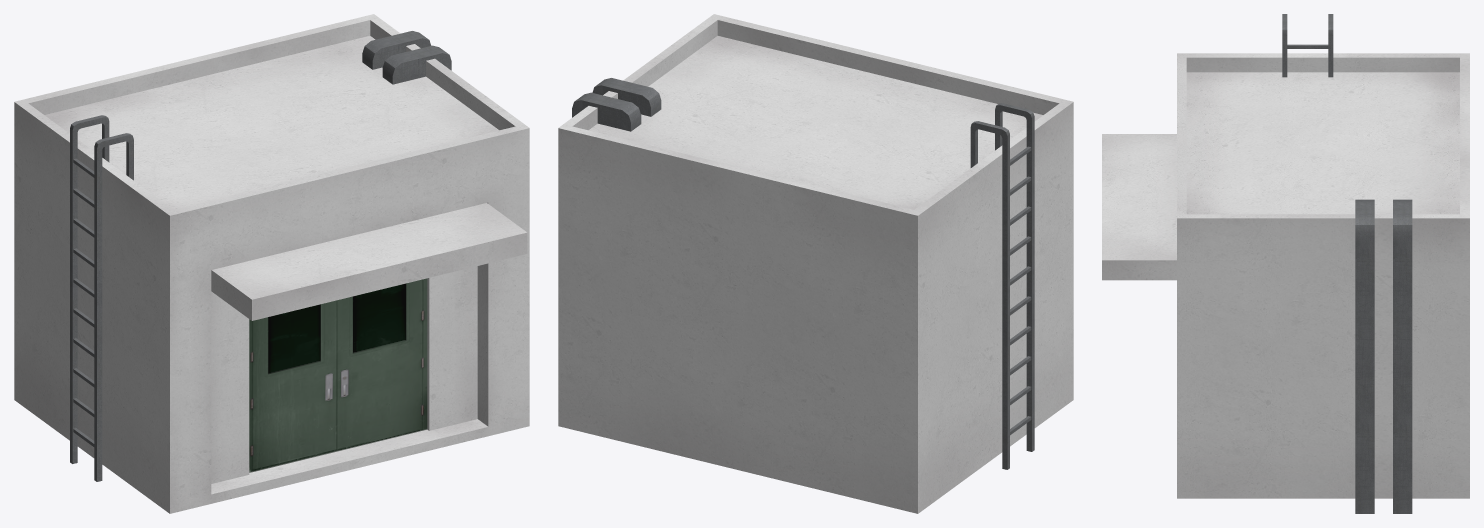
The model's file is room01.dae.
The picture shows the model from 3 angles, left to right: view 1: azimuth 30°, elevation 25°; view 2: azimuth 150°, elevation 25°; view 3: azimuth 270°, elevation 25°; orthographic projection. The views are drawn at different scales.
Visible parts, largest first — view 1: room01; view 2: room01; view 3: room01.
Boxes of the visible parts, <box> form: room01: <box>14,14,529,513</box>; room01: <box>558,14,1073,513</box>; room01: <box>1102,14,1469,513</box>.
Bounding box in the file's own units: 4.37 × 3.64 × 3.77.
